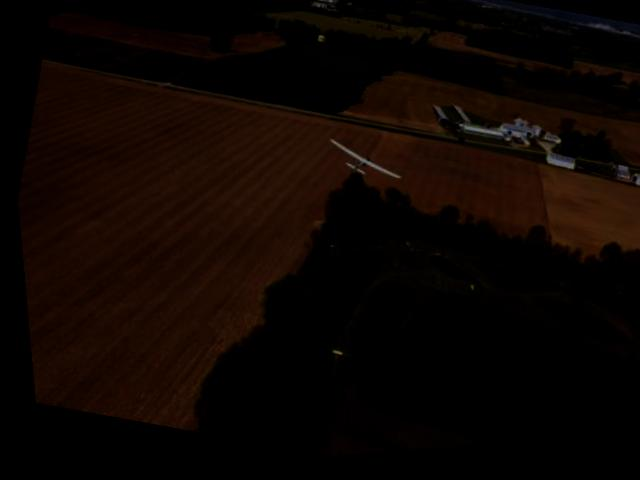uav: (306, 126, 413, 206)
